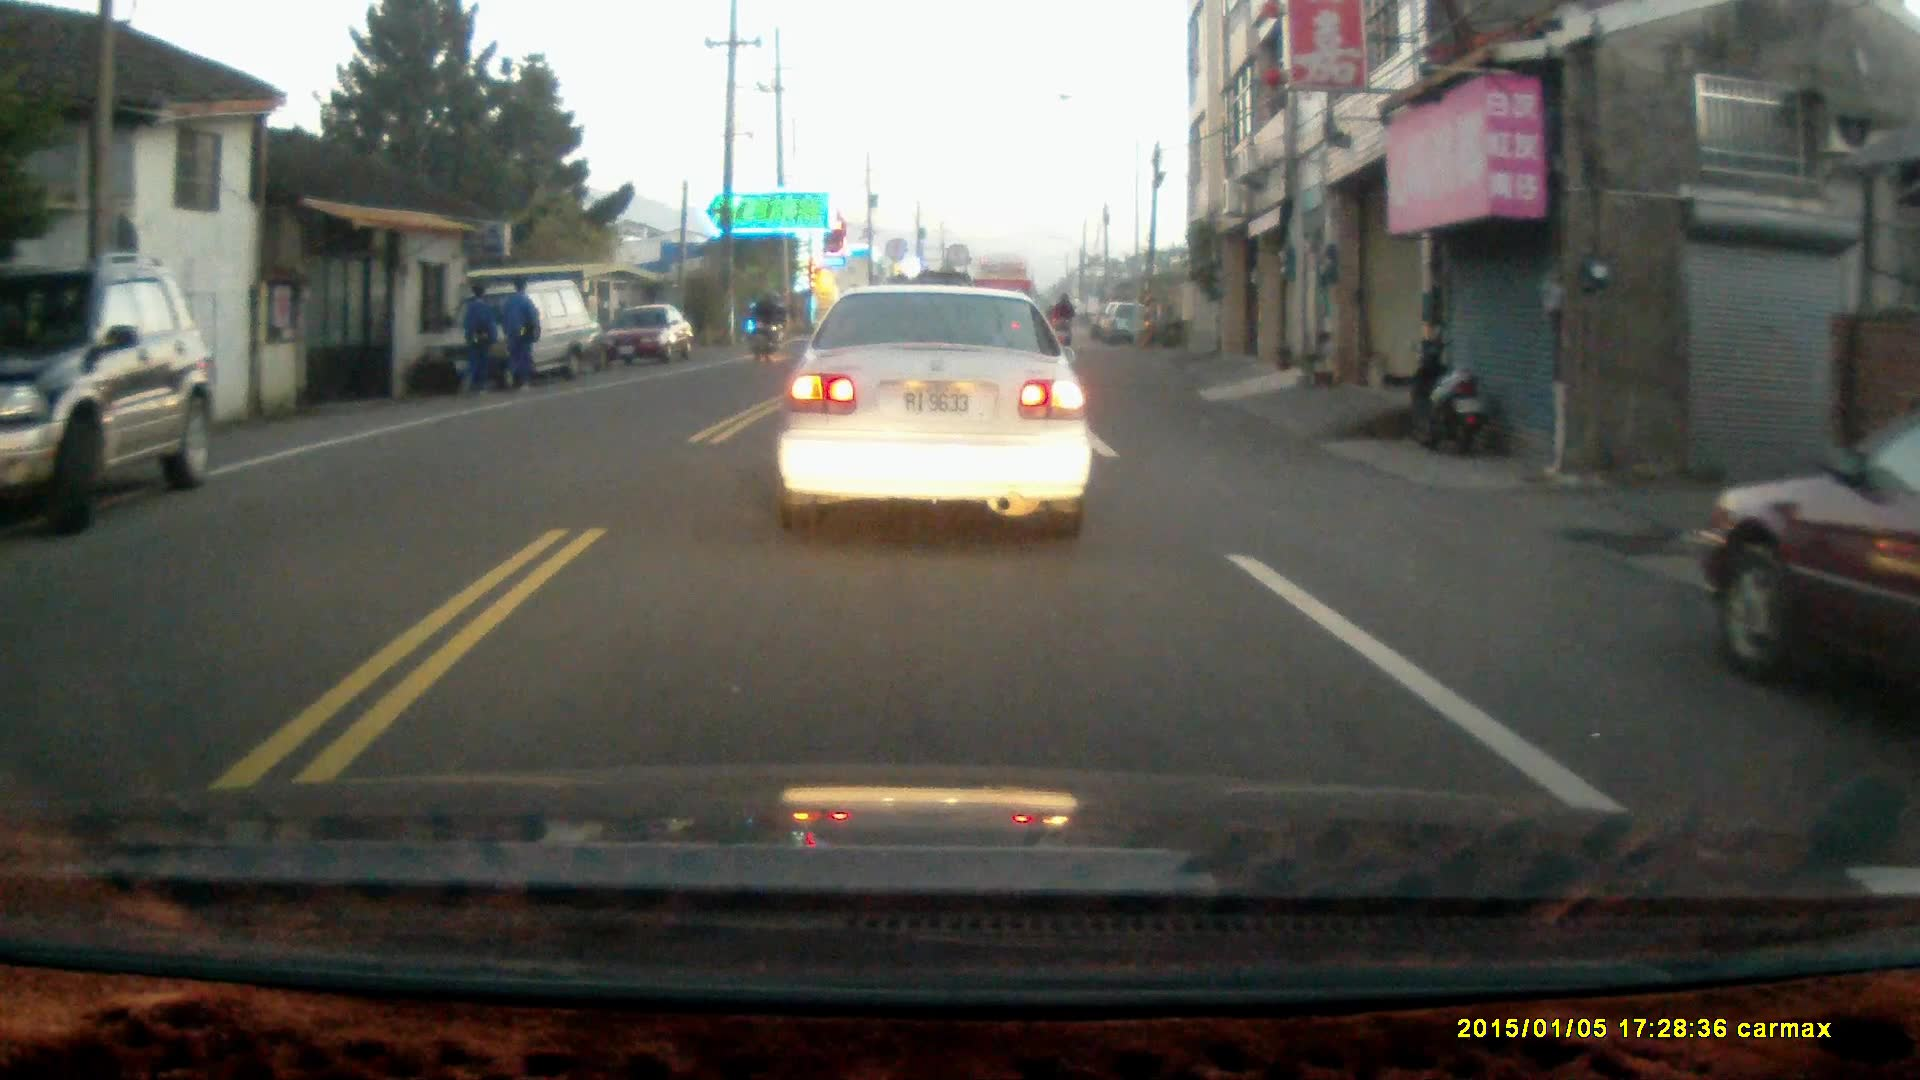pedestrian: (457, 283, 497, 399), (500, 274, 538, 394)
rider: (744, 292, 782, 359)
vehicle: (776, 279, 1101, 534), (1693, 433, 1920, 710), (1, 261, 217, 541), (451, 275, 607, 382), (597, 303, 699, 364)
